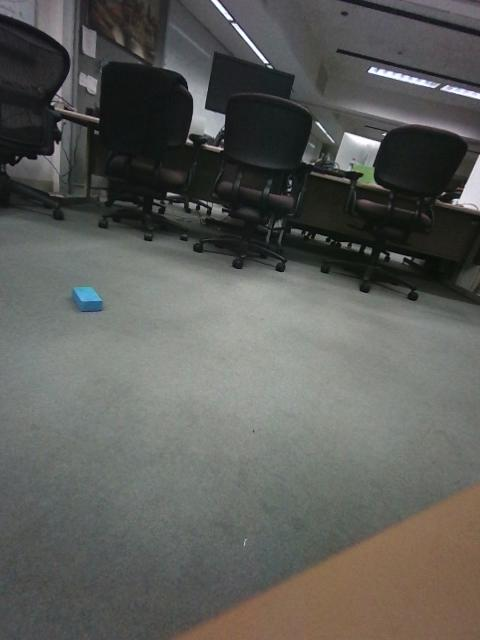block: (123, 285, 182, 324)
